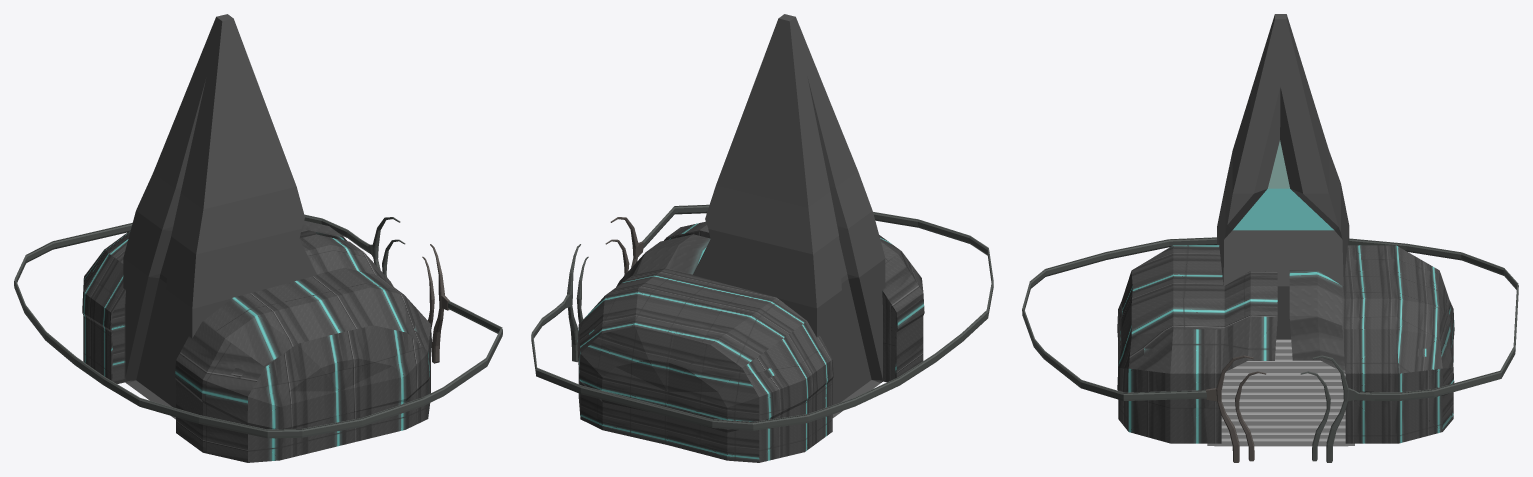
Rendered from Building1.fbx.
The picture shows the model from 3 angles, left to right: view 1: azimuth 30°, elevation 25°; view 2: azimuth 150°, elevation 25°; view 3: azimuth 270°, elevation 25°; orthographic projection. The views are drawn at different scales.
Visible parts, largest first — view 1: Cube.021, Cube.002, Cube.003, Cube, Cube.004; view 2: Cube, Cube.021, Cube.003, Cube.002, Cube.004; view 3: Cube, Cube.021, Cube.002, Cube.016, Cube.003, Cube.004.
Part boxes in pixels (x1,y1,x2,y2): Cube.021: (123, 14, 316, 419); Cube.002: (175, 234, 431, 462); Cube.003: (14, 214, 502, 438); Cube: (82, 220, 346, 383); Cube.004: (422, 244, 449, 363); Cube: (577, 234, 833, 462); Cube.021: (693, 14, 885, 417); Cube.003: (531, 204, 993, 430); Cube.002: (664, 221, 924, 382); Cube.004: (605, 217, 643, 275); Cube: (1289, 245, 1454, 443); Cube.021: (1217, 14, 1349, 339); Cube.002: (1117, 245, 1277, 443); Cube.016: (1207, 339, 1354, 446); Cube.003: (1022, 237, 1518, 462); Cube.004: (1206, 355, 1266, 462).
Size of the model in its own units: 12686 by 13396 by 16462.
